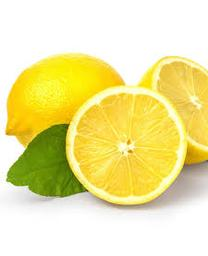lemon: (67, 86, 189, 208), (8, 55, 124, 152), (142, 55, 207, 166)
